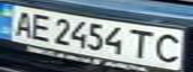2: (48, 16, 72, 47)
4: (103, 24, 130, 56), (66, 18, 90, 50)
5: (84, 20, 109, 52)
A: (6, 8, 39, 38)
C: (148, 30, 190, 64)
E: (27, 11, 54, 42)
T: (124, 26, 160, 60)
